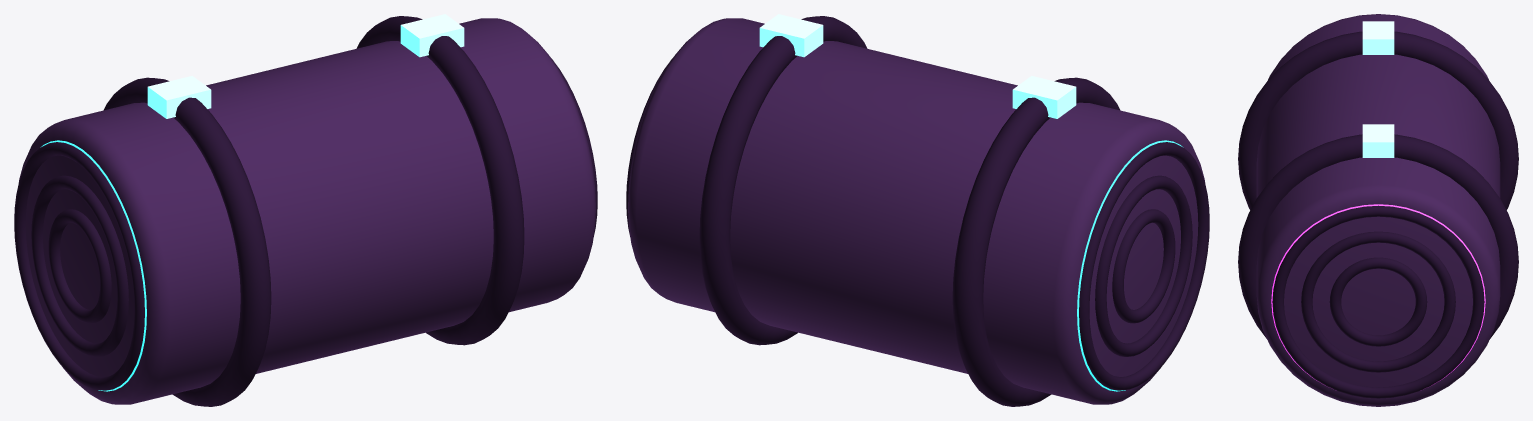
Rendered from leder_ur.glb.
The picture shows the model from 3 angles, left to right: view 1: azimuth 30°, elevation 25°; view 2: azimuth 150°, elevation 25°; view 3: azimuth 270°, elevation 25°; orthographic projection. The views are drawn at different scales.
Visible parts, largest first — view 1: Cylinder, Torus.006, Torus.007, Torus, Torus.001, Torus.002, Cube.001, Cube, Torus.008; view 2: Cylinder, Torus.006, Torus.007, Torus, Torus.001, Torus.002, Cube.001, Cube, Torus.008; view 3: Cylinder, Torus.007, Torus.006, Torus.003, Torus.004, Torus.005, Cube, Cube.001, Torus.009.
Part boxes in pixels (left/top/right/bottom): Cylinder: left=18, top=18, right=595, bottom=404; Torus.006: left=103, top=77, right=271, bottom=406; Torus.007: left=356, top=16, right=524, bottom=345; Torus: left=14, top=142, right=144, bottom=390; Torus.001: left=31, top=175, right=128, bottom=356; Torus.002: left=48, top=209, right=111, bottom=323; Cube.001: left=400, top=14, right=464, bottom=57; Cube: left=147, top=76, right=211, bottom=118; Torus.008: left=40, top=140, right=146, bottom=391; Cylinder: left=628, top=18, right=1205, bottom=404; Torus.006: left=952, top=77, right=1120, bottom=406; Torus.007: left=699, top=16, right=867, bottom=345; Torus: left=1079, top=142, right=1209, bottom=390; Torus.001: left=1095, top=175, right=1192, bottom=356; Torus.002: left=1112, top=209, right=1175, bottom=323; Cube.001: left=759, top=14, right=823, bottom=57; Cube: left=1012, top=76, right=1076, bottom=118; Torus.008: left=1077, top=140, right=1183, bottom=391; Cylinder: left=1256, top=14, right=1500, bottom=406; Torus.007: left=1238, top=134, right=1518, bottom=338; Torus.006: left=1238, top=31, right=1518, bottom=209; Torus.003: left=1272, top=205, right=1484, bottom=398; Torus.004: left=1301, top=231, right=1455, bottom=372; Torus.005: left=1329, top=257, right=1427, bottom=346; Cube: left=1362, top=21, right=1394, bottom=54; Cube.001: left=1362, top=124, right=1394, bottom=157; Torus.009: left=1271, top=204, right=1485, bottom=385.
Size of the model in its own units: 0.31 by 0.197 by 0.196.
